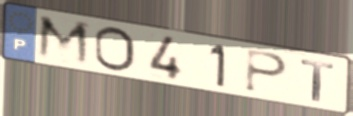1: (207, 43, 228, 89)
4: (146, 33, 185, 83)
M: (34, 13, 93, 70)
O: (92, 25, 138, 74)
P: (242, 47, 290, 96)
T: (298, 57, 336, 104)
